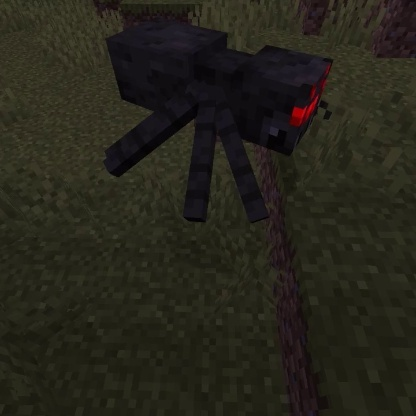spider: (96, 14, 337, 229)
